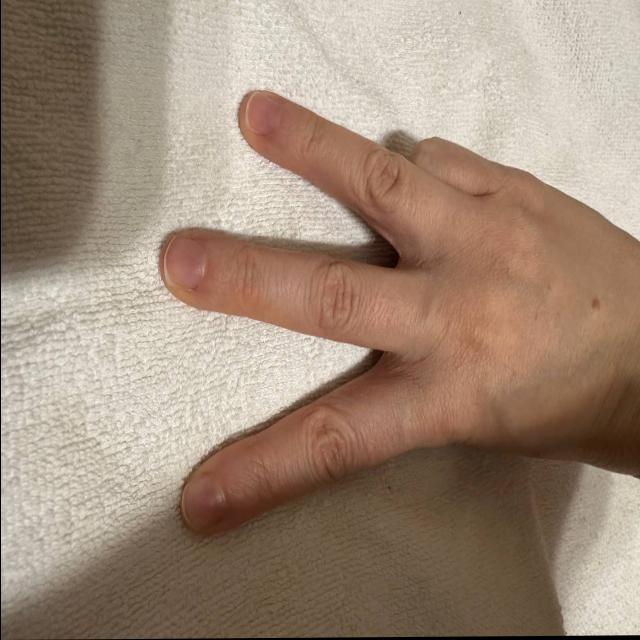m: (142, 88, 616, 555)
